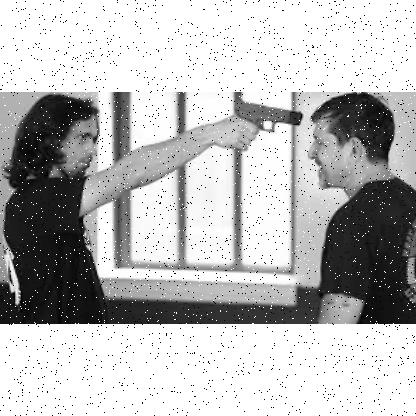gun: (230, 93, 304, 156)
